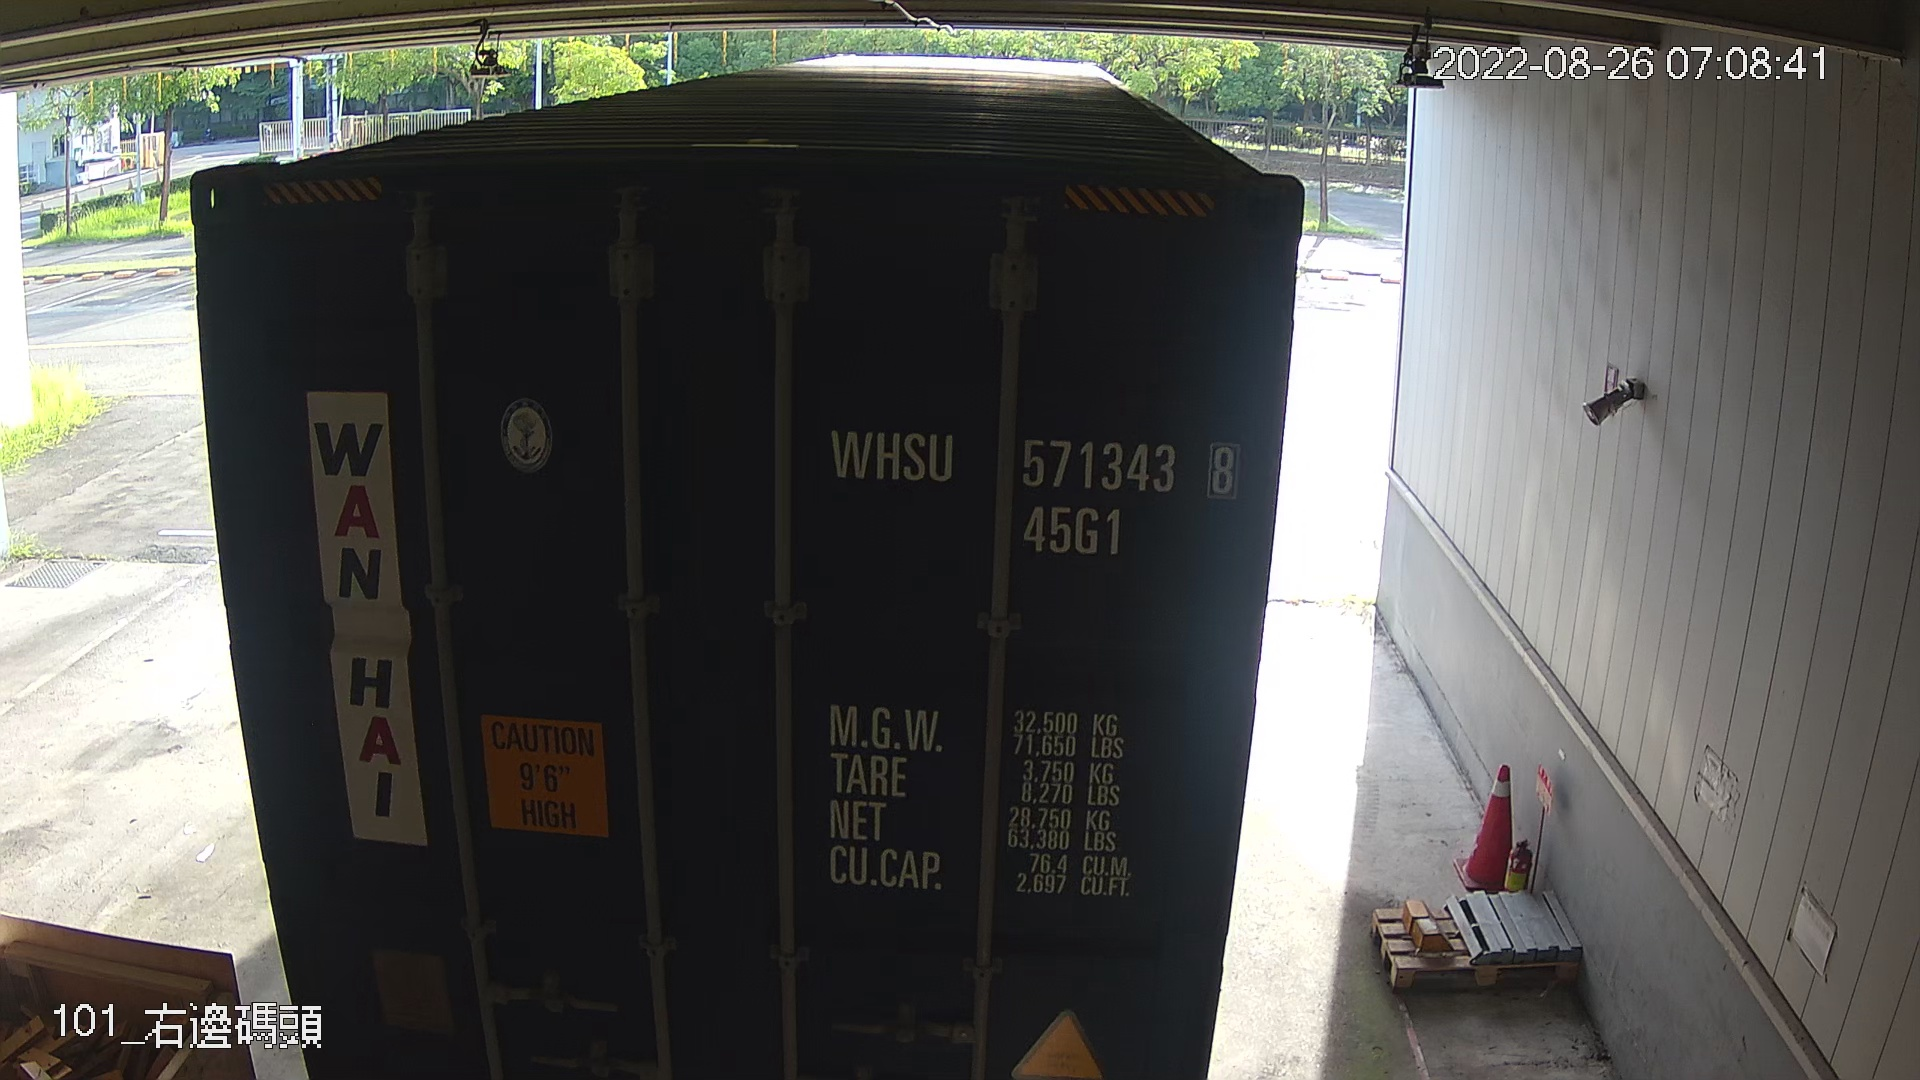container: (814, 407, 1250, 567)
